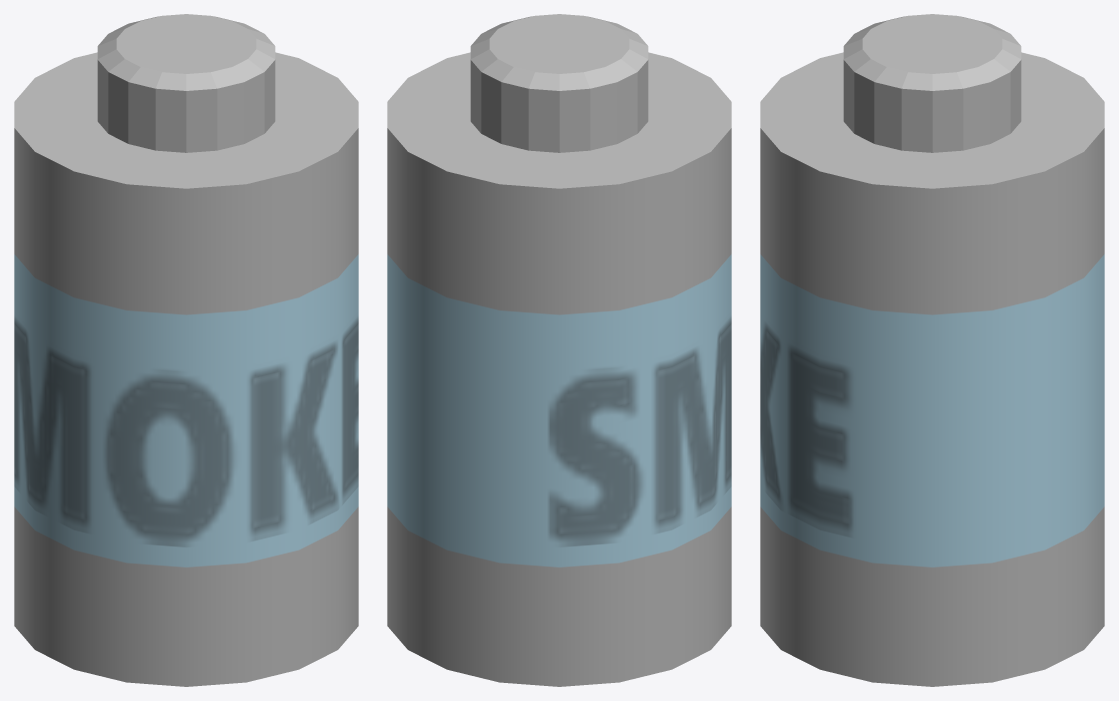
The model's file is smokebomb.fbx.
The picture shows the model from 3 angles, left to right: view 1: azimuth 30°, elevation 25°; view 2: azimuth 150°, elevation 25°; view 3: azimuth 270°, elevation 25°; orthographic projection.
Parts seen in each view (by area): view 1: Cilindro001; view 2: Cilindro001; view 3: Cilindro001.
Part boxes in pixels (x1,y1,x2,y2): Cilindro001: (14, 14, 358, 686); Cilindro001: (387, 14, 731, 686); Cilindro001: (760, 14, 1104, 686).
Size of the model in its own units: 9.17 by 16.71 by 9.03.
Materials: 1 (1 with a texture image).
